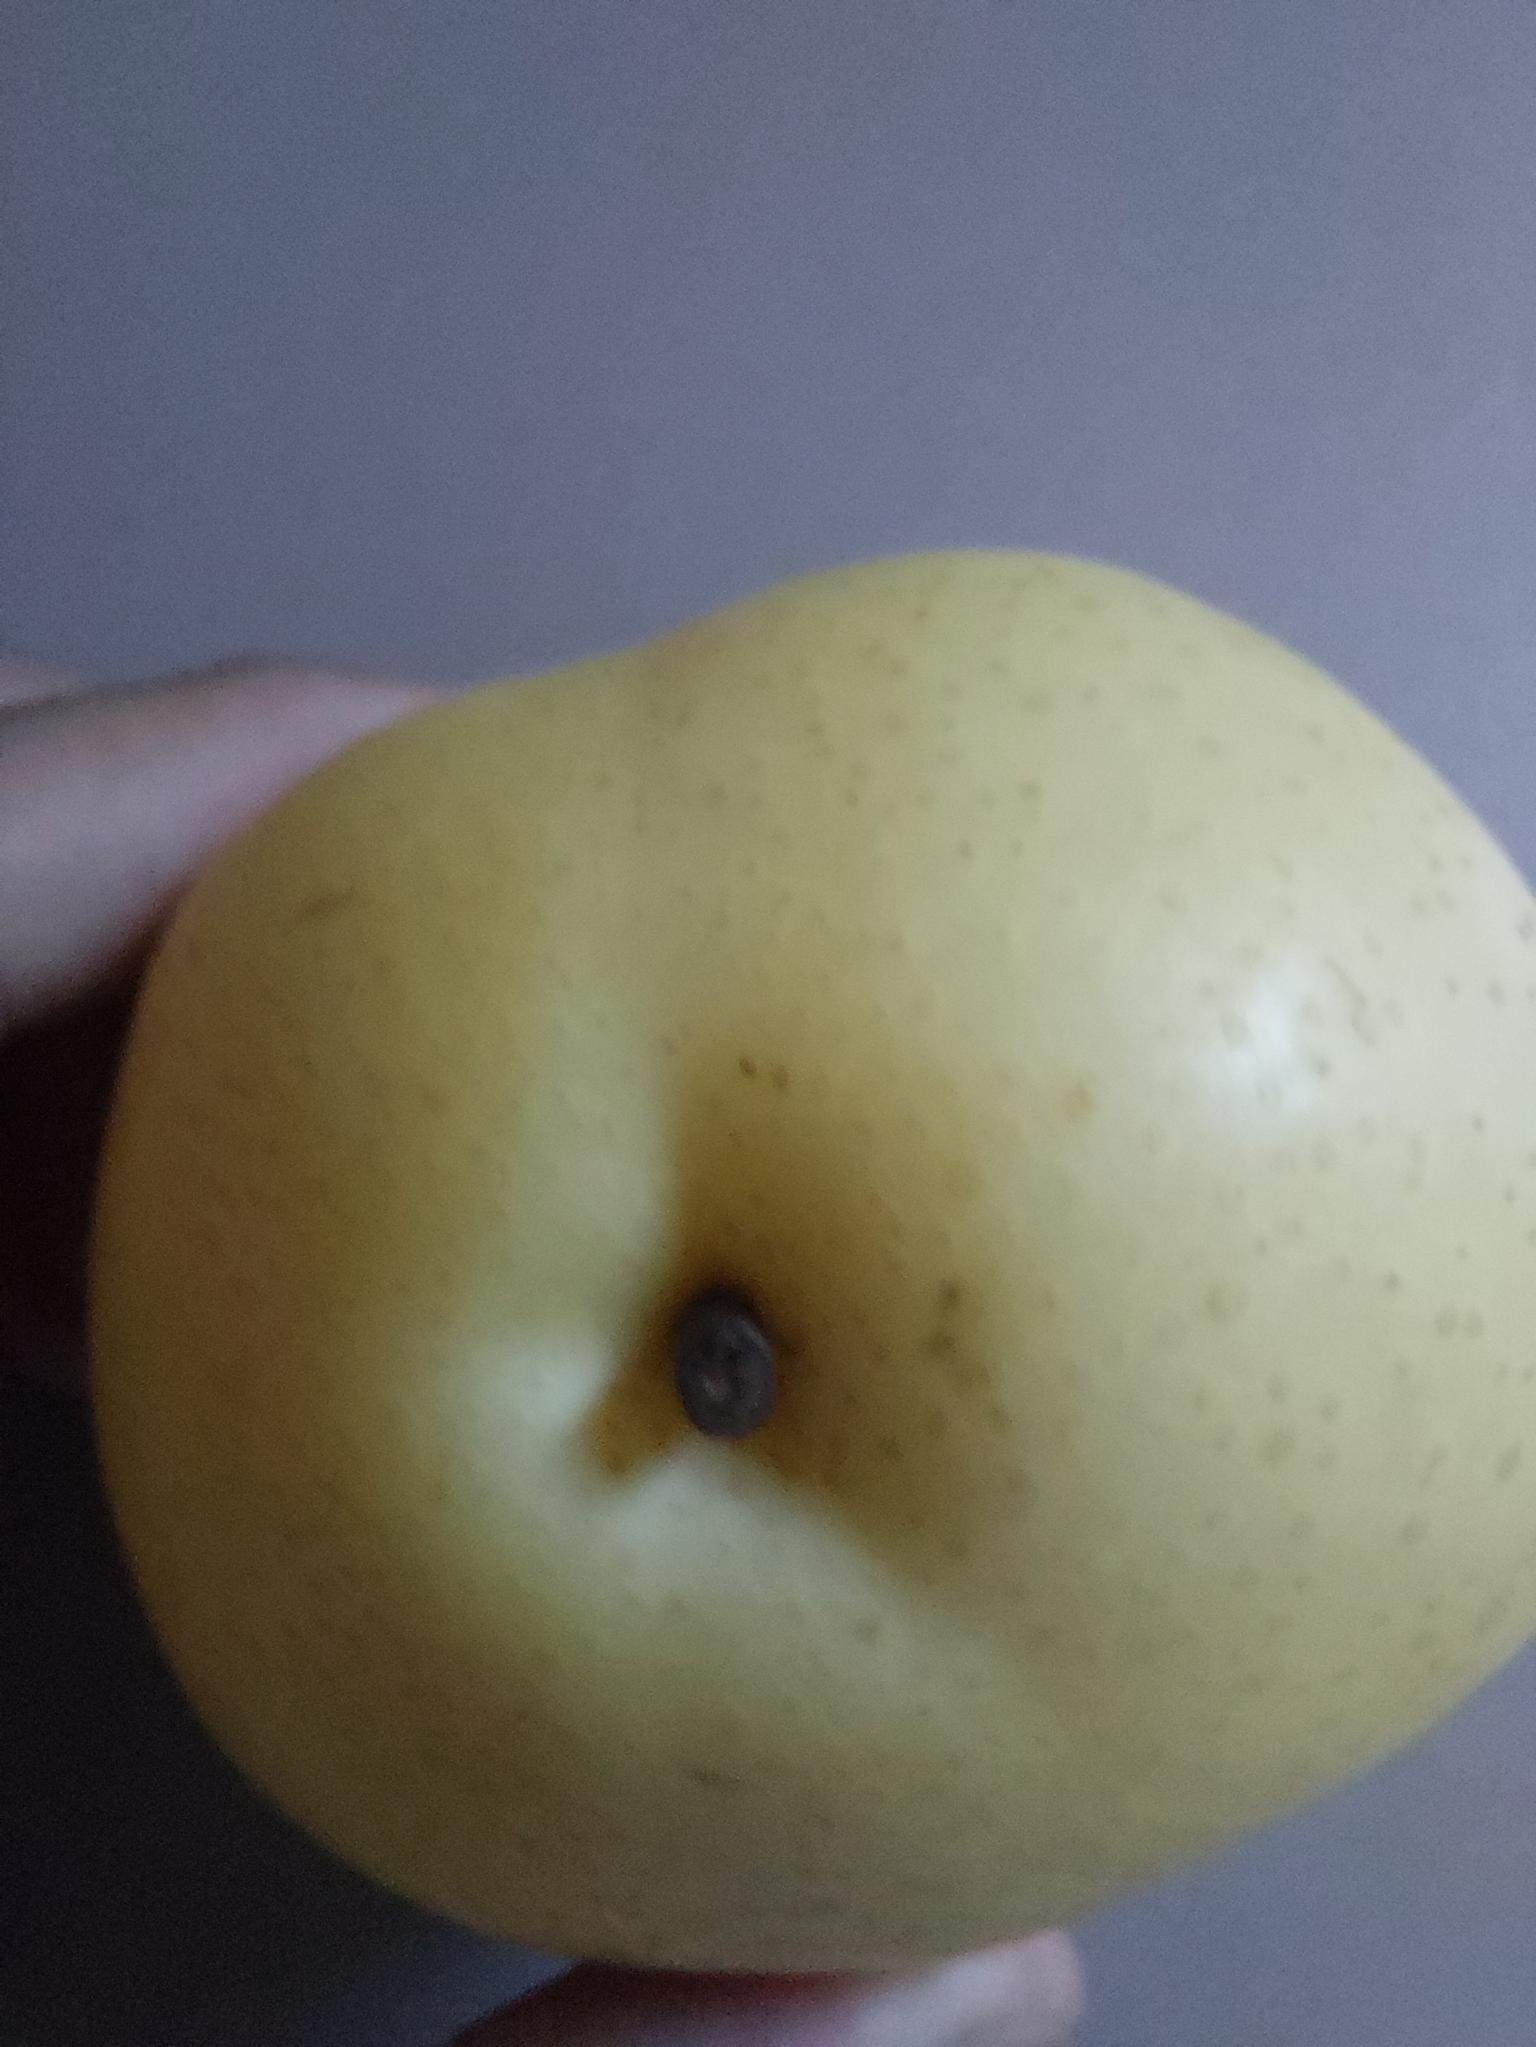Good Pear: (100, 545, 1536, 1977)
